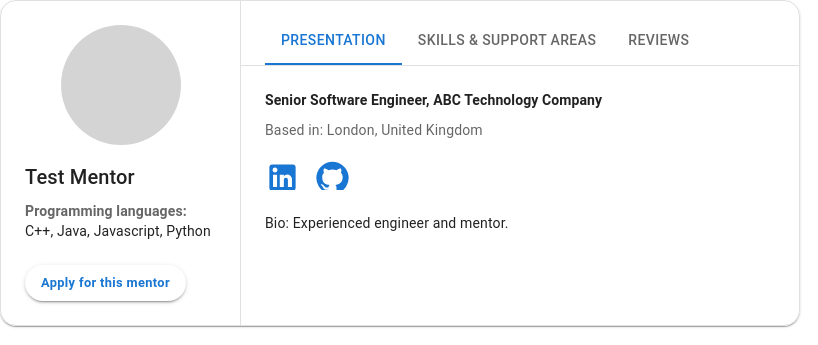
it: MentorProfileCard › shows the correct tab content when tabs are clicked
Expected: the text "Based in: London, United Kingdom" is shown, [265,122,483,138]
Note: Switch to Skills & Support Areas tab
Click the tab "Skills & Support Areas": (507, 41) [402,17,612,65]
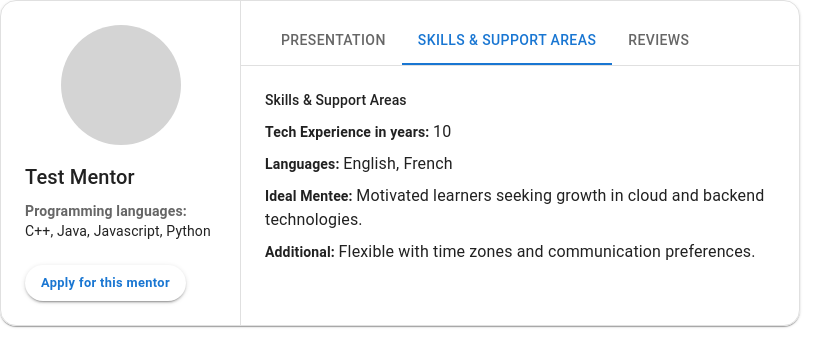
Expected: the text "Tech Experience in years: 10" is shown, [265,122,451,141]
Expected: the text "10" is shown, [433,122,451,141]
Expected: the text "English, French" is shown, [343,154,453,173]
Note: Switch to Reviews tab
Click the tab "Reviews": (659, 41) [612,17,706,65]
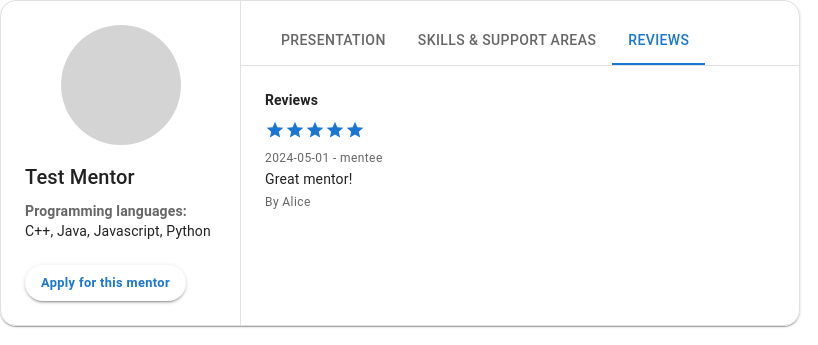
Expected: the text "Great mentor!" is shown, [265,171,352,187]
Expected: the number of icons with test id "StarIcon" is 5, [265,120,285,140]; [285,120,305,140]; [305,120,325,140]; [325,120,345,140]; [345,120,365,140]
